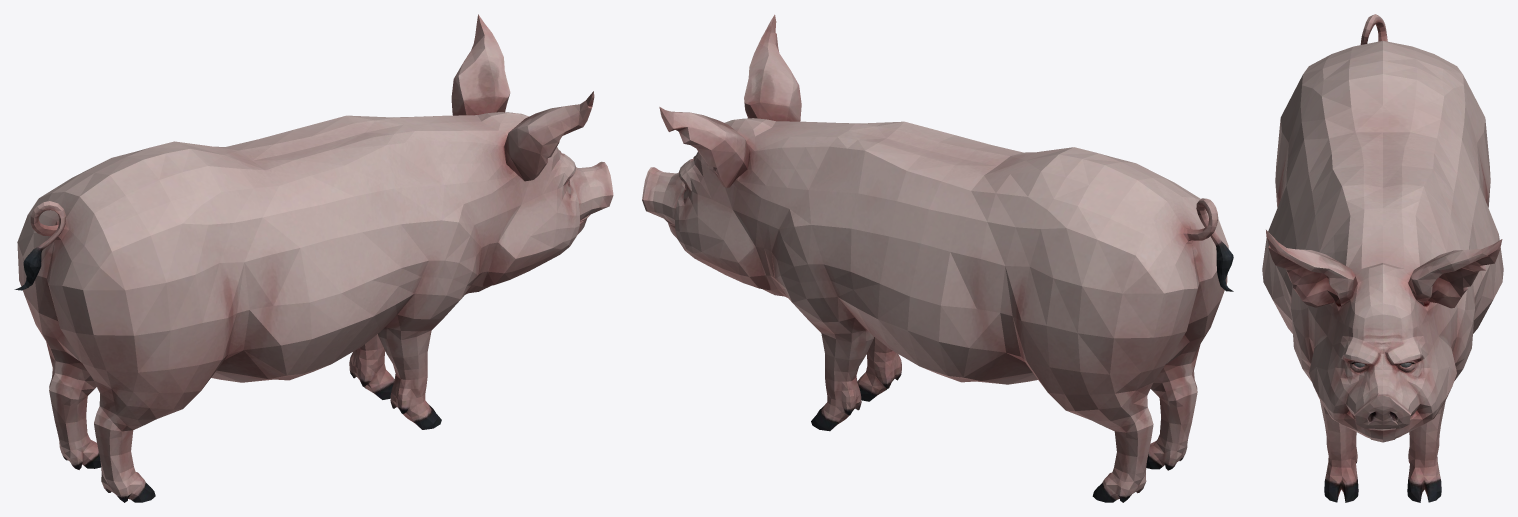
The model's file is pig.gltf.
The picture shows the model from 3 angles, left to right: view 1: azimuth 30°, elevation 25°; view 2: azimuth 150°, elevation 25°; view 3: azimuth 270°, elevation 25°; orthographic projection. The views are drawn at different scales.
Bounding box in the file's own units: 2.5 × 1.32 × 0.8708.
8 materials, 8 textured.
